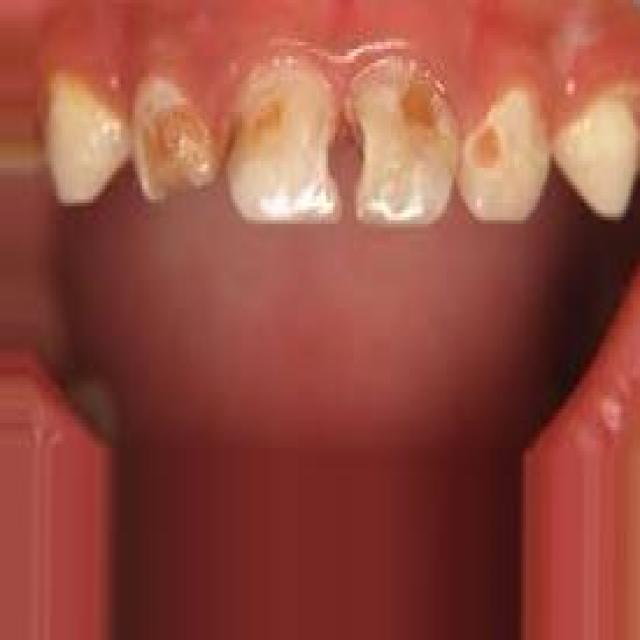caries: (221, 56, 345, 225), (349, 57, 458, 231), (123, 75, 225, 208), (454, 91, 518, 195)
